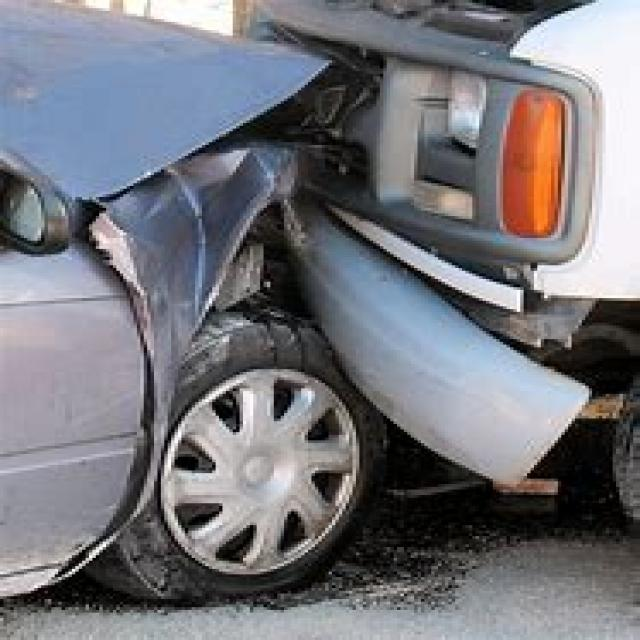Accident: (55, 6, 637, 544)
